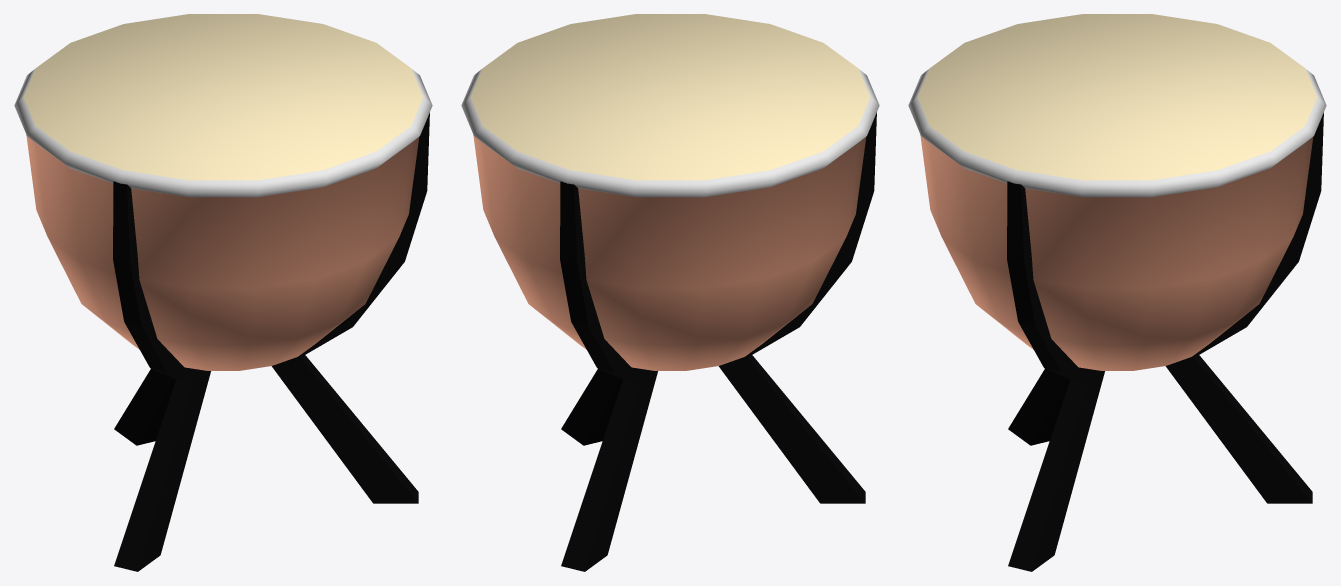
Rendered from timpani.glb.
The picture shows the model from 3 angles, left to right: view 1: azimuth 30°, elevation 25°; view 2: azimuth 150°, elevation 25°; view 3: azimuth 270°, elevation 25°; orthographic projection.
Visible parts, largest first — view 1: timpani; view 2: timpani; view 3: timpani.
Part boxes in pixels (x1,y1,x2,y2): timpani: (14, 14, 432, 571); timpani: (461, 14, 879, 571); timpani: (908, 14, 1326, 571).
Bounding box in the file's own units: 1.65 × 1.77 × 1.68.
